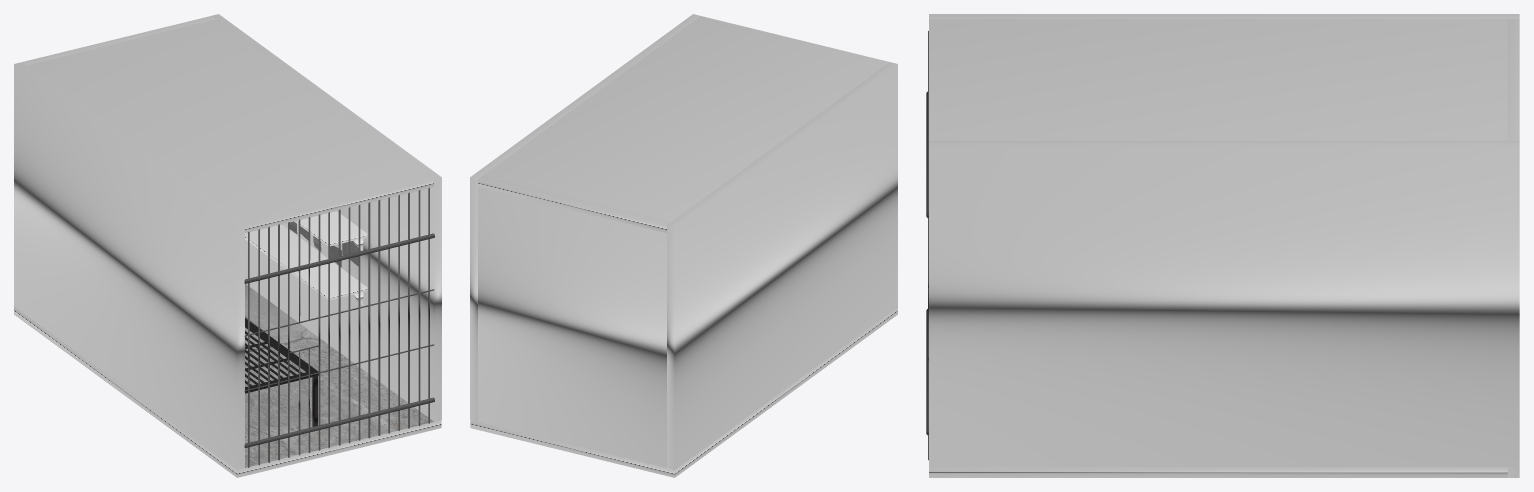
File: Jailcell.fbx
3 renders of one model, left to right at view 1: azimuth 30°, elevation 25°; view 2: azimuth 150°, elevation 25°; view 3: azimuth 270°, elevation 25°, orthographic. The views are drawn at different scales.
Parts seen in each view (by area): view 1: Jailcell; view 2: Jailcell; view 3: Jailcell.
Boxes of the visible parts, x1,y1,x2,y2 form: Jailcell: (14, 14, 441, 477); Jailcell: (470, 14, 897, 477); Jailcell: (926, 14, 1519, 477).
Size of the model in its own units: 265 by 310 by 502.
